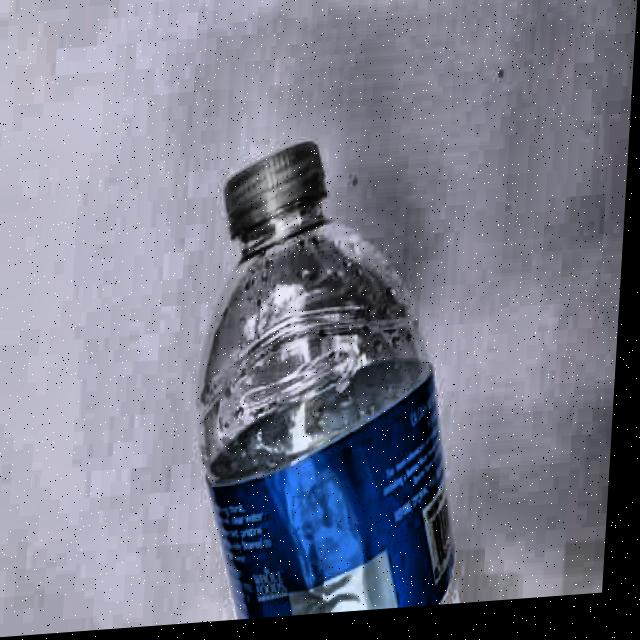plastic: (184, 126, 482, 624)
